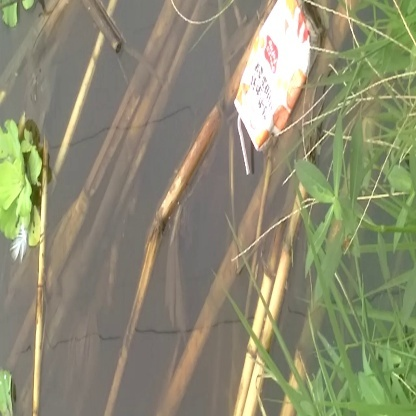milk-box: (225, 1, 323, 183)
